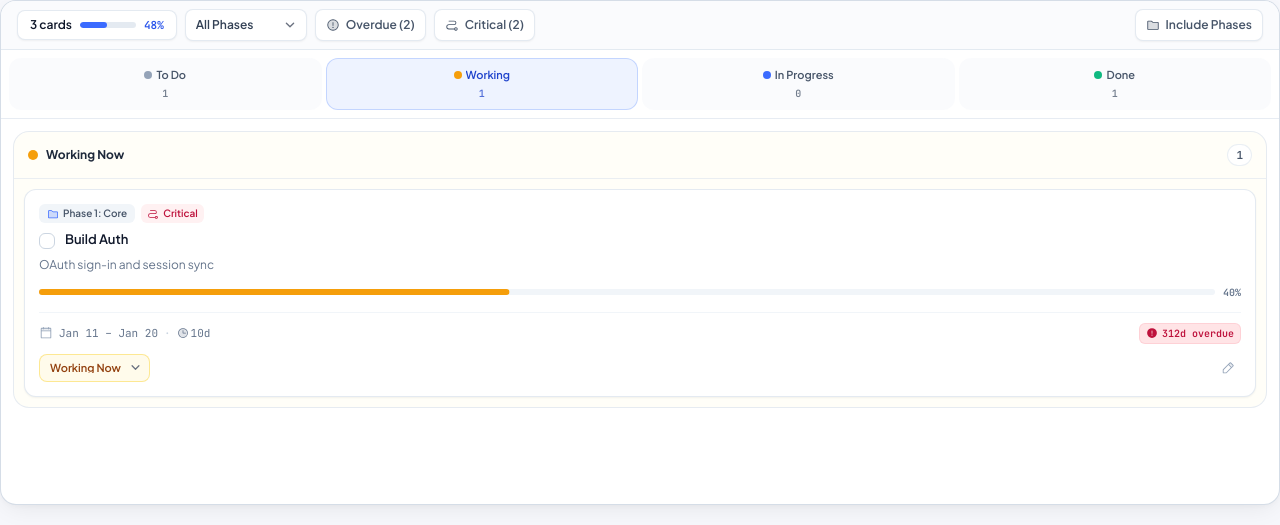
Test: Phase 2 Multi-View components (KanbanBoardView & TaskListView) › switches KanbanBoardView cleanly to focused column tabs on mobile viewports
The width and height of the screenshot is (1280, 525).
Expected: the element with test id "board-column-working" is shown, [13, 130, 1267, 408]
// Switch to Done tab
Step 1. Click the tab "Done 1" → (1115, 84), box [958, 58, 1271, 110]
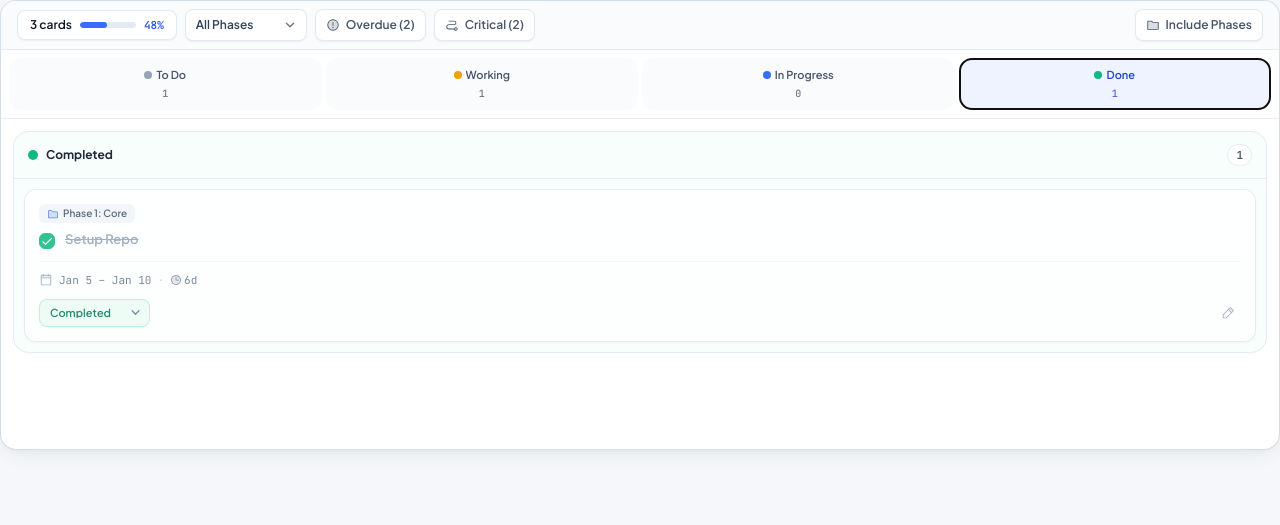
Now the element with test id "board-column-completed" is shown, box [13, 130, 1267, 352]
Now the text "Setup Repo" is shown, box [65, 231, 138, 247]
